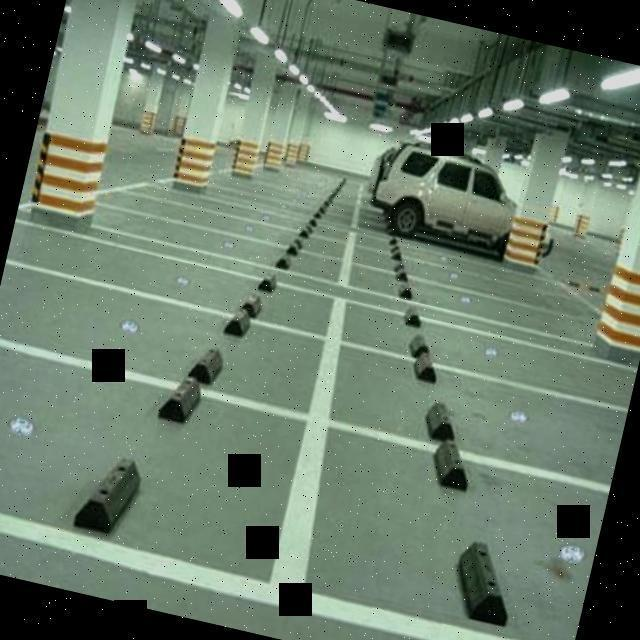space-empty: (0, 333, 329, 612), (0, 252, 338, 413), (329, 332, 629, 492), (8, 214, 344, 332), (77, 200, 356, 293), (115, 179, 358, 247)
space-occupied: (354, 129, 569, 270)
